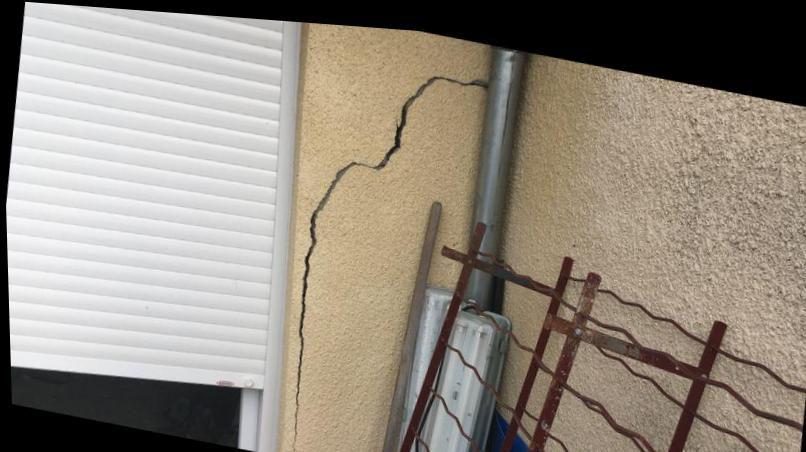crack: (290, 70, 487, 452)
